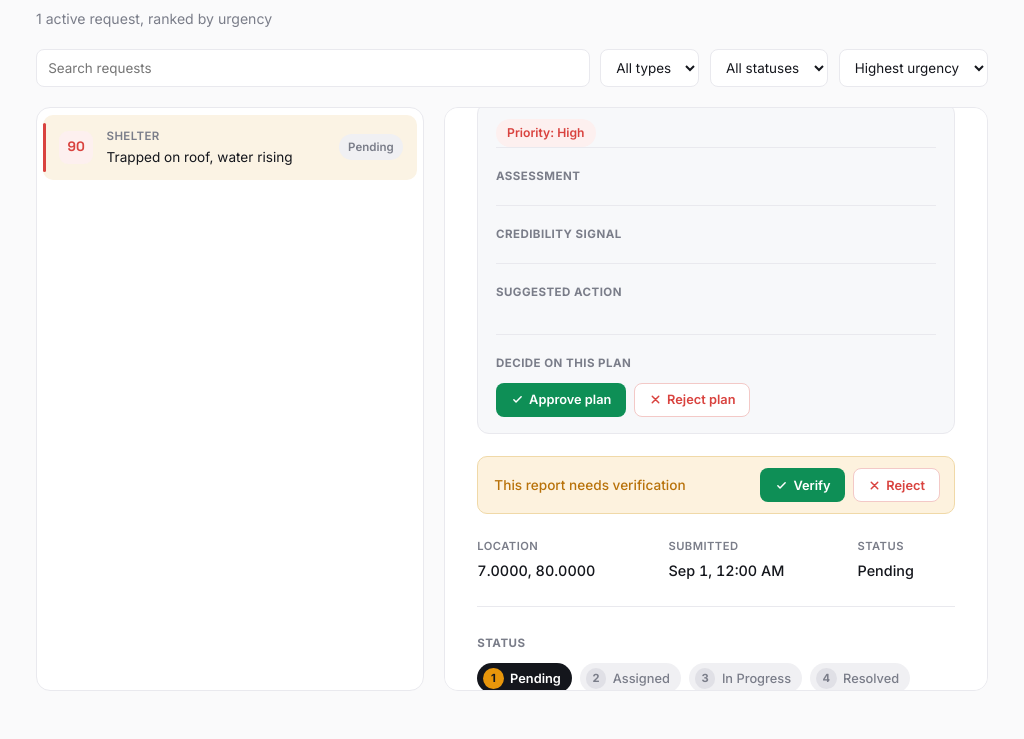
Test: Component B help request review — AI assessment › approving the plan posts a decision to the workflow, not the help request, and reflects the decided state
The width and height of the screenshot is (1024, 739).
(page scrolled)
Click the button "Approve plan". click: (561, 400)
box: x1=496 y1=383 x2=626 y2=417
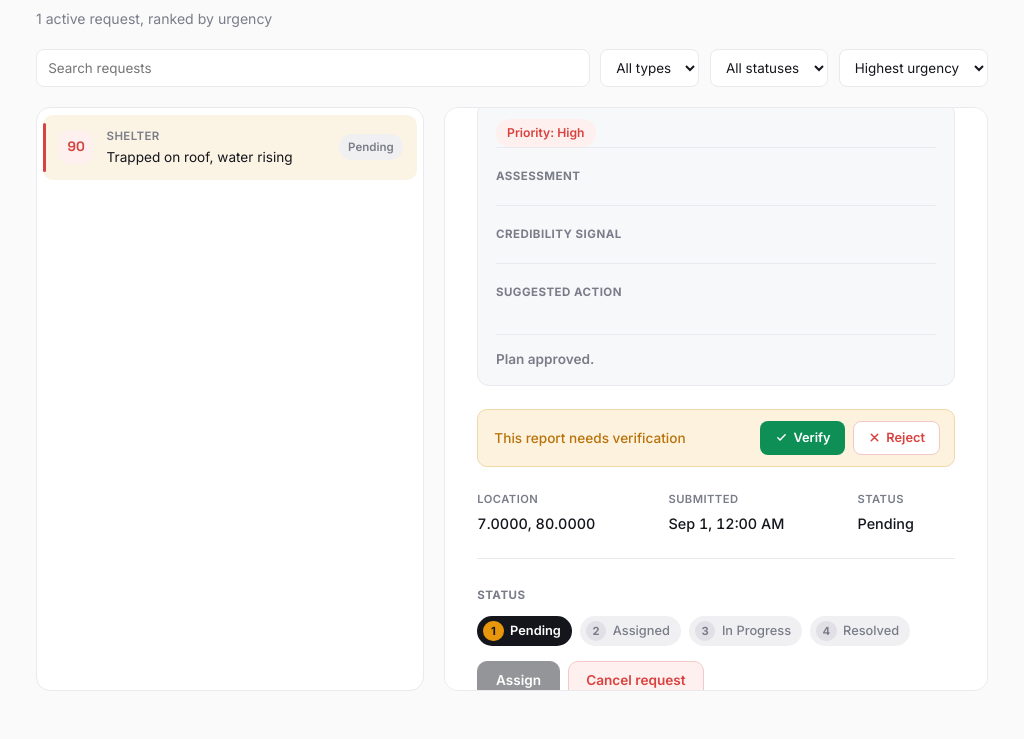
Check: the text "Plan approved." is shown, box x1=496 y1=334 x2=936 y2=369
Check: the button "Approve plan" is gone
